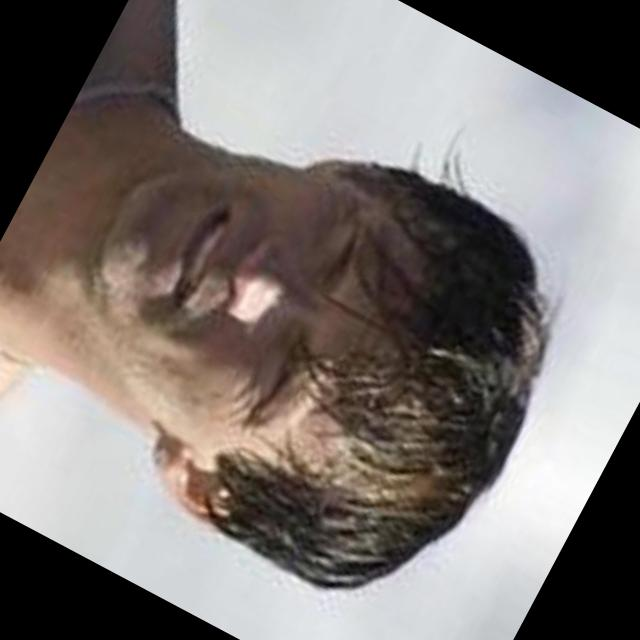bareface: (26, 88, 552, 568)
